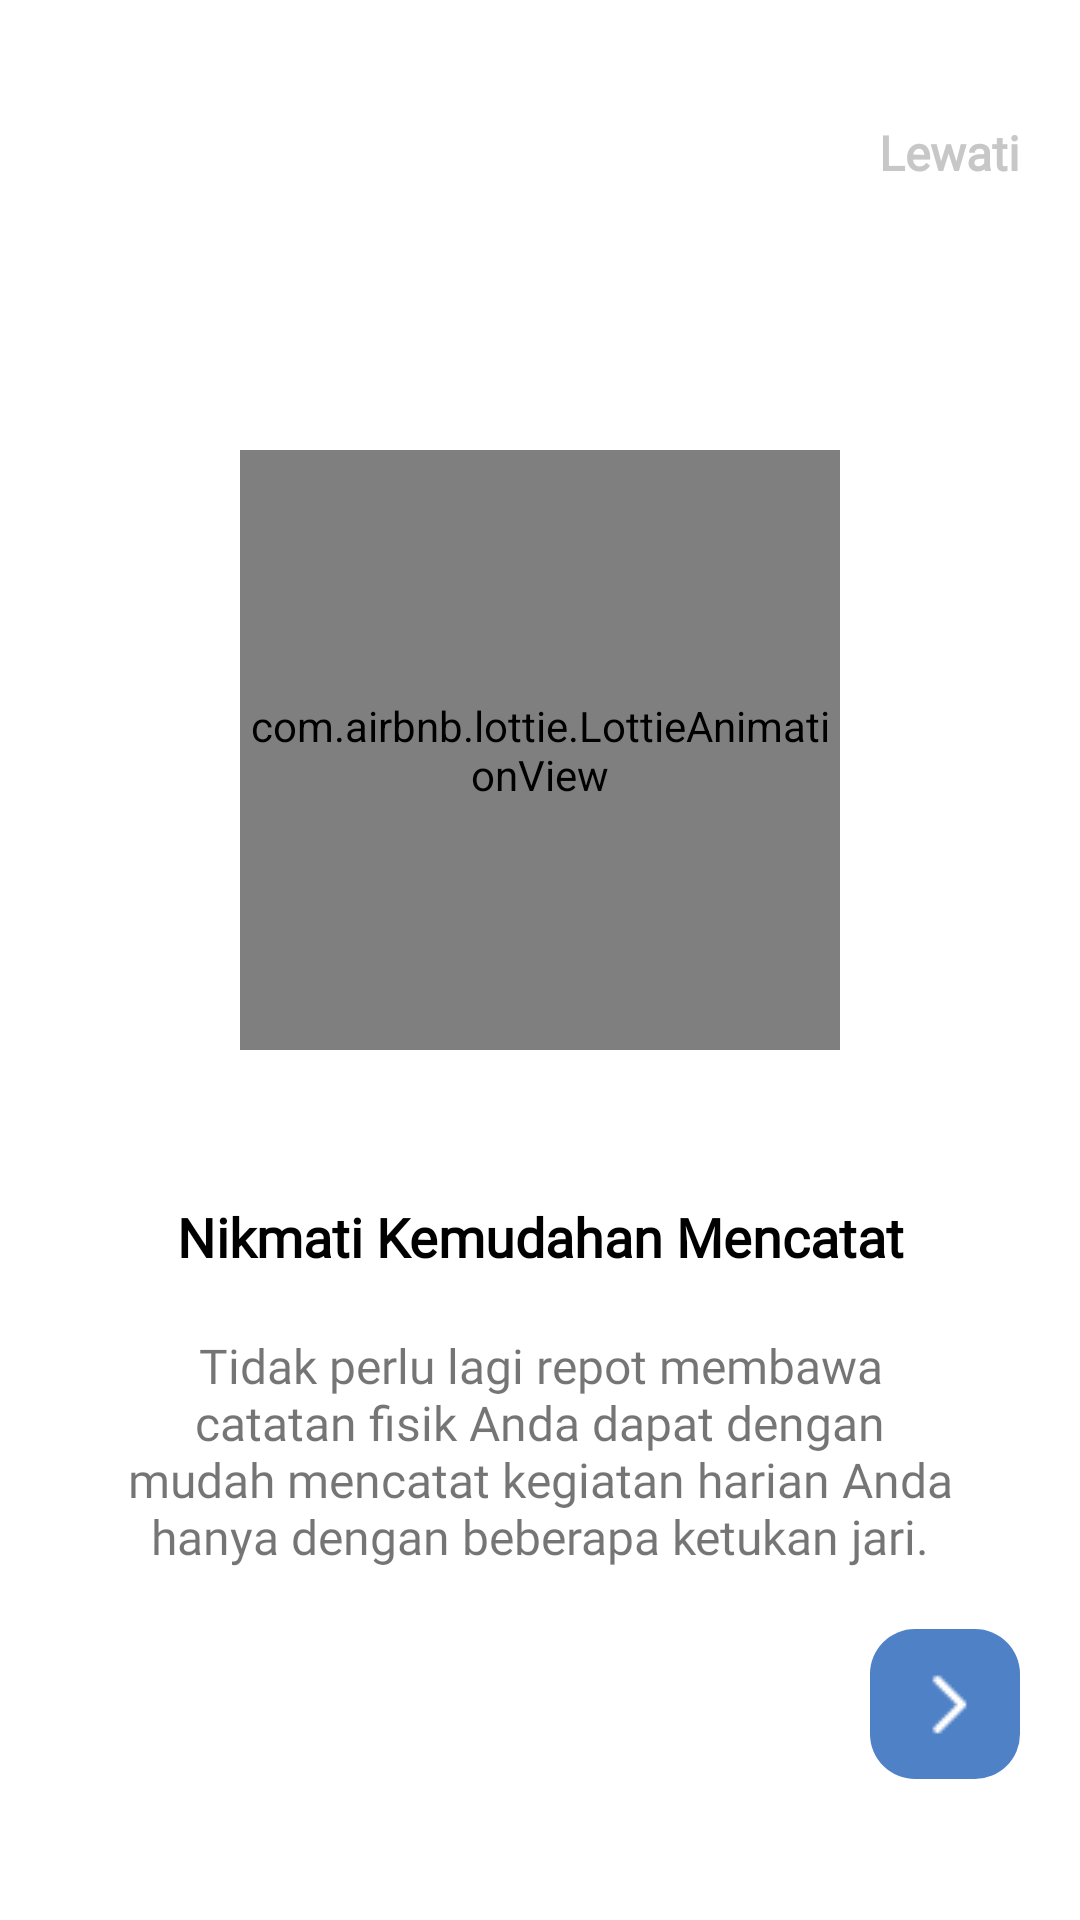

Where to tap for icons on this 1080w x 1920h app screen, as (x=x, y=y):
next: (x=949, y=1704)
